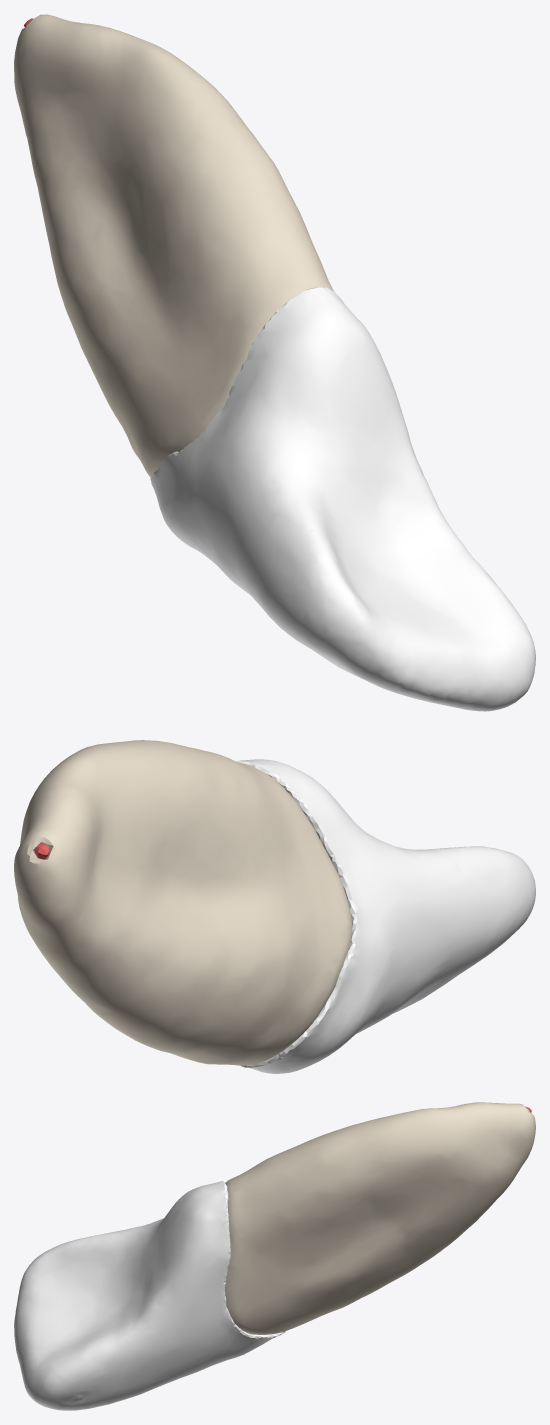
Rendered from 恒牙下颌侧切牙.fbx.
3 views of the same model, one above another, from view 1: azimuth 30°, elevation 25°; view 2: azimuth 150°, elevation 25°; view 3: azimuth 270°, elevation 25° (orthographic). The views are drawn at different scales.
Parts seen in each view (by area): view 1: texture_W, texture_B; view 2: texture_B, texture_W; view 3: texture_B, texture_W.
Part boxes in pixels (x1=…): texture_W: x1=150, y1=287, x2=535, y2=711; texture_B: x1=14, y1=14, x2=334, y2=477; texture_B: x1=14, y1=740, x2=351, y2=1065; texture_W: x1=236, y1=759, x2=535, y2=1073; texture_B: x1=225, y1=1102, x2=535, y2=1334; texture_W: x1=14, y1=1181, x2=286, y2=1410.
Bounding box in the file's own units: 8.15 × 15.06 × 24.81.
3 materials, 3 textured.
